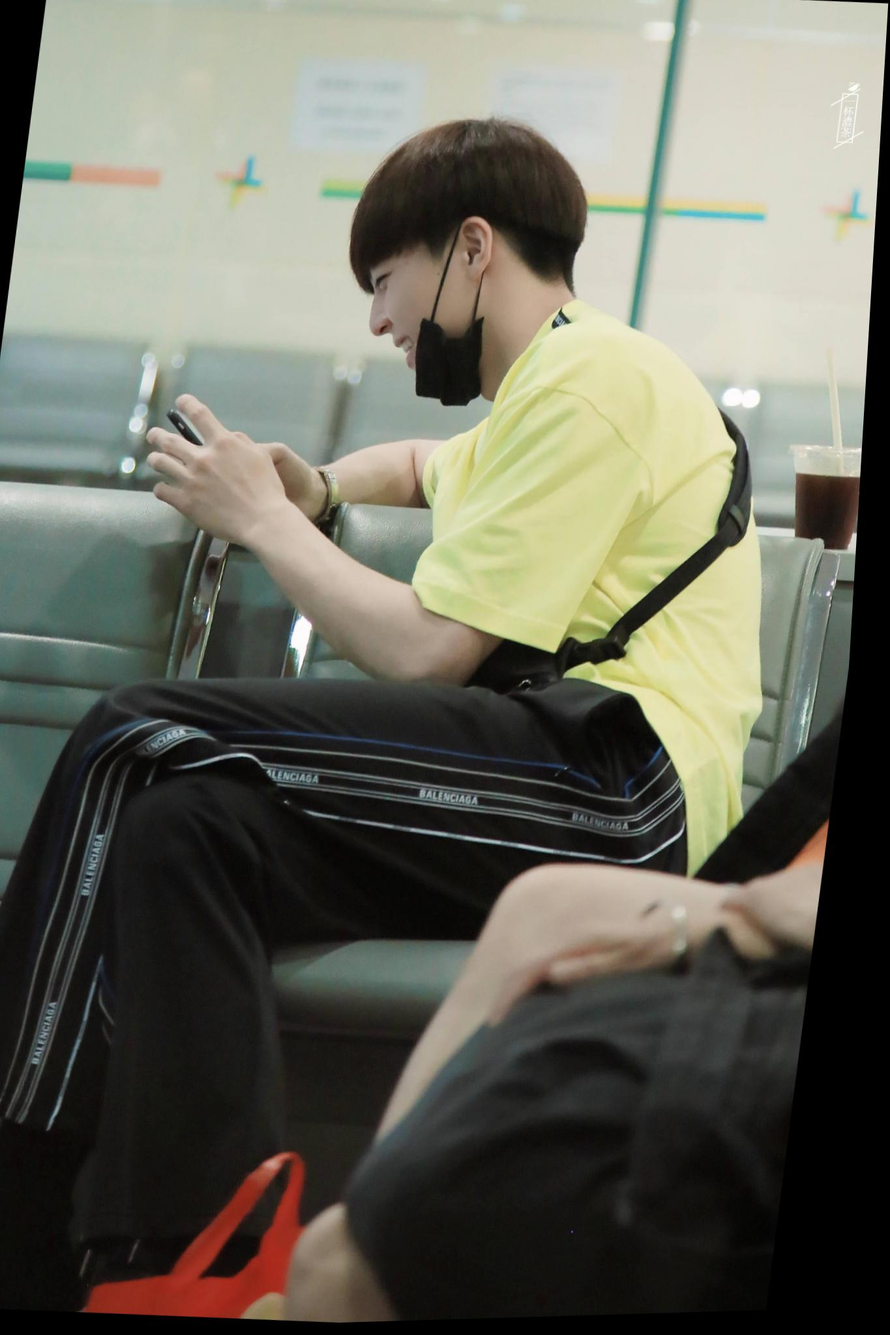WRONG: (353, 252, 487, 411)
